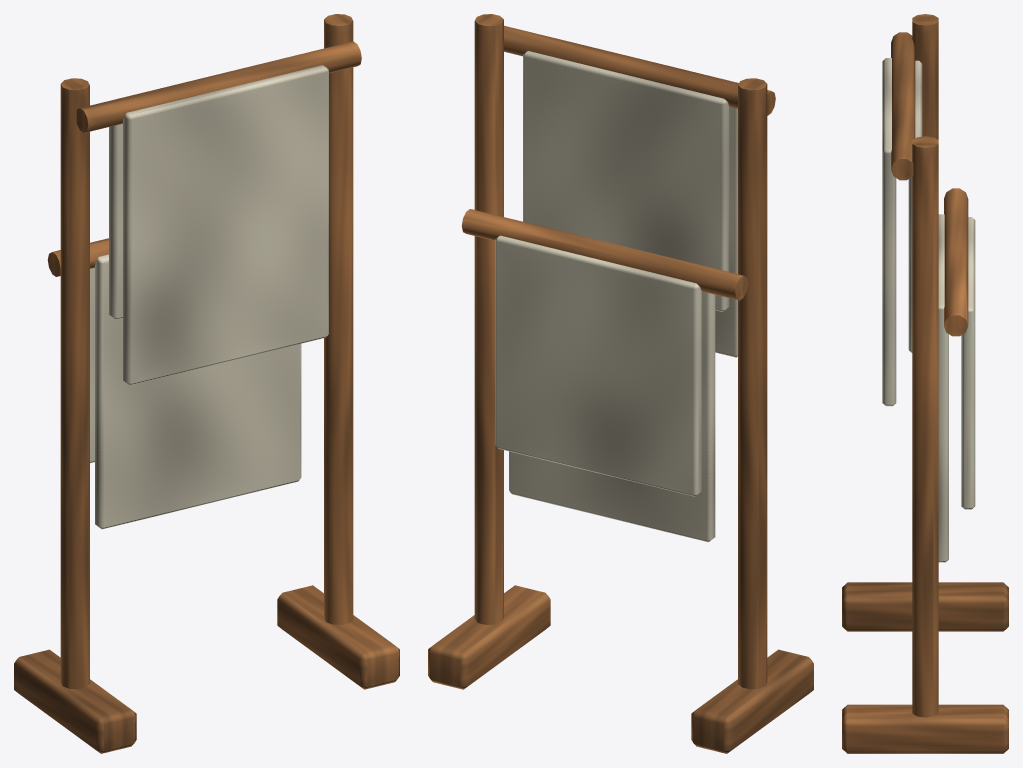
The model's file is Furn_Life_TowelRack.fbx.
The picture shows the model from 3 angles, left to right: view 1: azimuth 30°, elevation 25°; view 2: azimuth 150°, elevation 25°; view 3: azimuth 270°, elevation 25°; orthographic projection. The views are drawn at different scales.
Visible parts, largest first — view 1: Furn_Life_TowelRack; view 2: Furn_Life_TowelRack; view 3: Furn_Life_TowelRack.
Part boxes in pixels (left/top/right/bottom): Furn_Life_TowelRack: left=14, top=14, right=399, bottom=753; Furn_Life_TowelRack: left=428, top=14, right=813, bottom=753; Furn_Life_TowelRack: left=842, top=14, right=1008, bottom=753.
Bounding box in the file's own units: 0.6 × 1.2 × 0.3.
2 materials, 2 textured.
